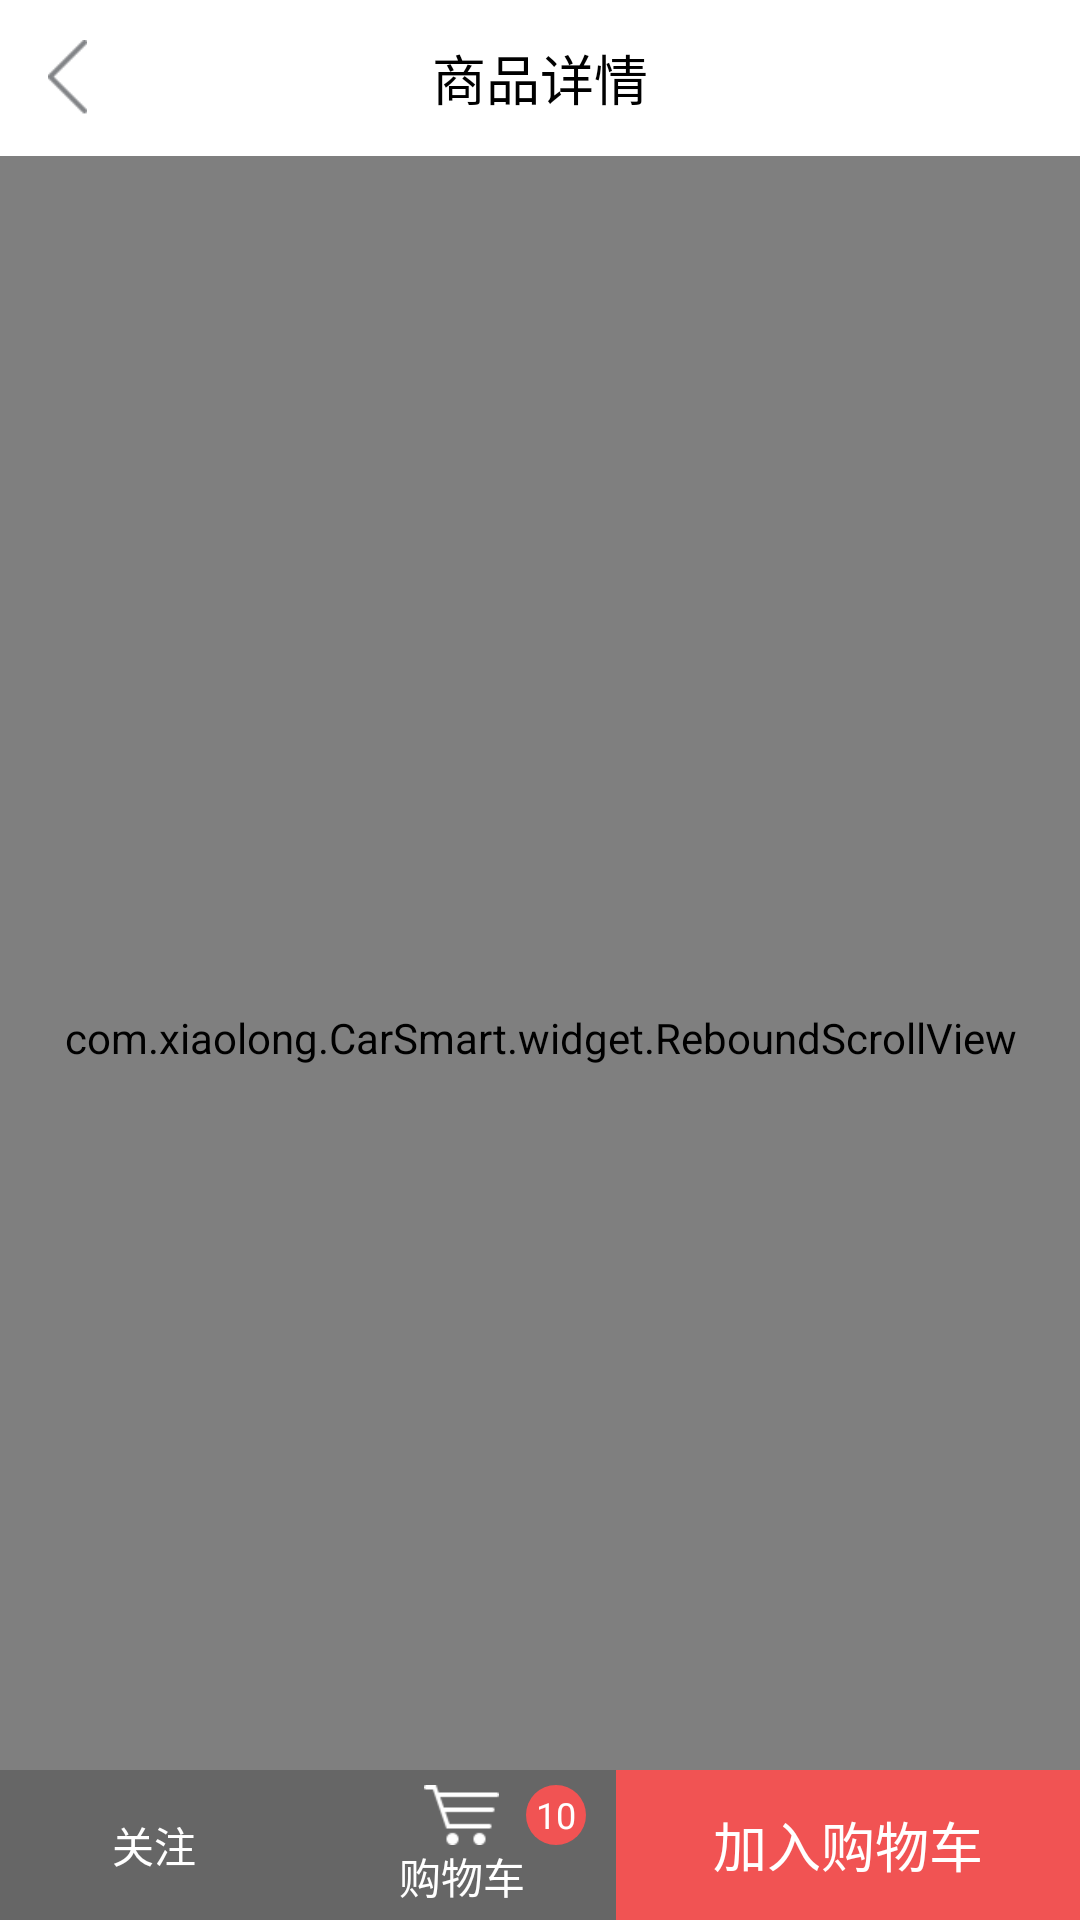

Locate icon controls on the screen. Image size 1080px x 1920px, boxes as detection(x1, y1, x2, y2).
back: detection(48, 40, 87, 114)
